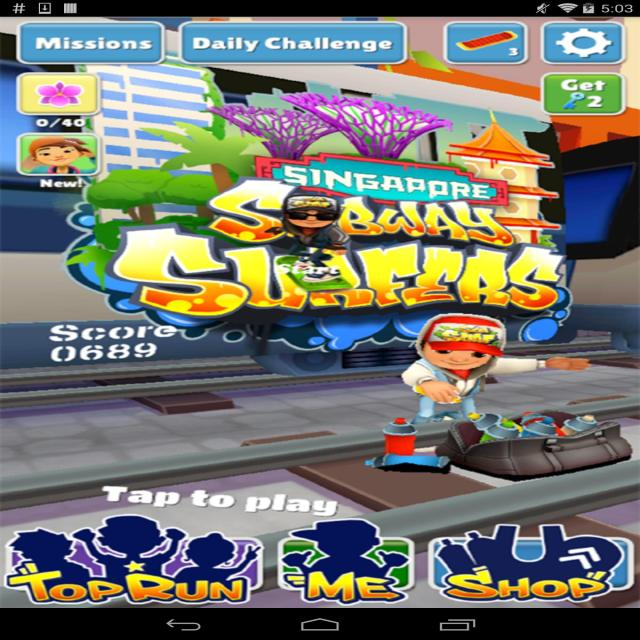button: (4, 512, 266, 604), (433, 517, 631, 604), (277, 515, 419, 603), (181, 23, 407, 63), (17, 22, 163, 62), (15, 133, 102, 176), (19, 73, 101, 115), (447, 21, 527, 64), (542, 73, 624, 114), (545, 21, 625, 63)
heading: (114, 167, 561, 316)
image: (2, 16, 640, 608)
text: (94, 483, 338, 517), (40, 320, 174, 363)
